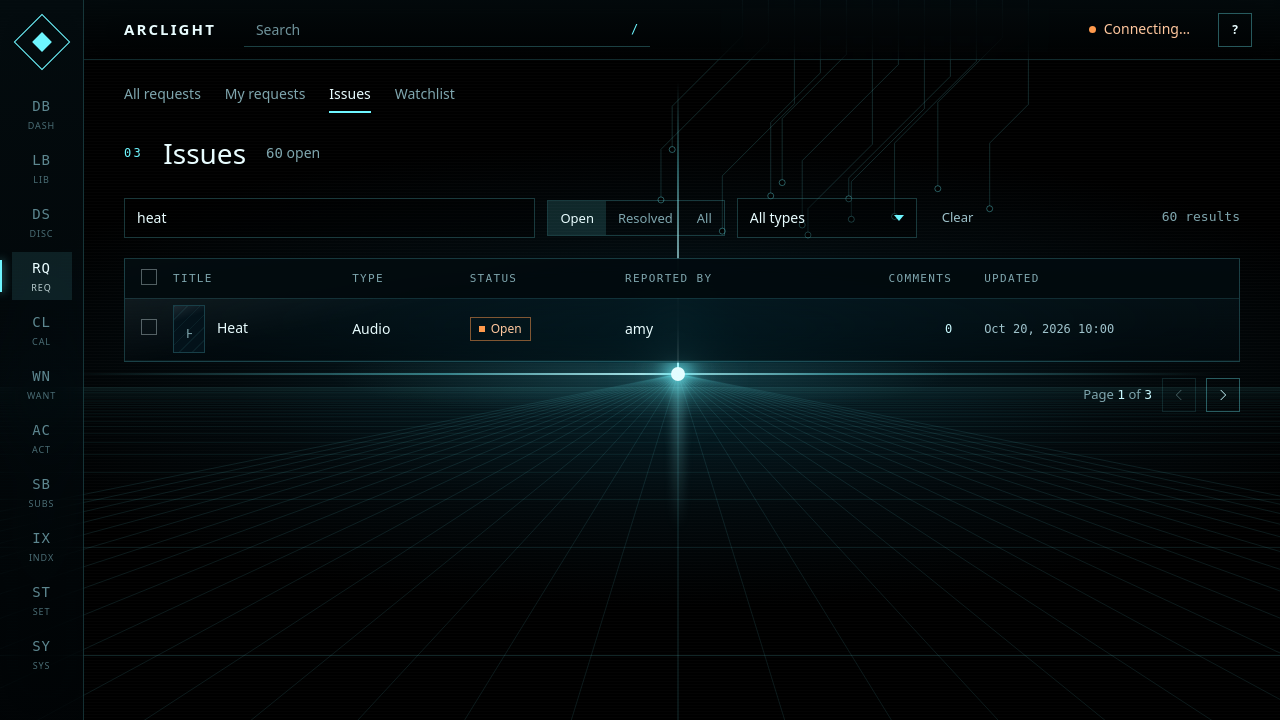
Test case: issues page search › sends q, shows the server count, resets the page and clears from the empty state
Expected: the link "Heat" is shown, [217, 318, 248, 338]
Expected: the text "60 results" is shown, [1162, 208, 1240, 227]
Click the button named "Next page". click: (1223, 395)
box: [1206, 378, 1240, 412]
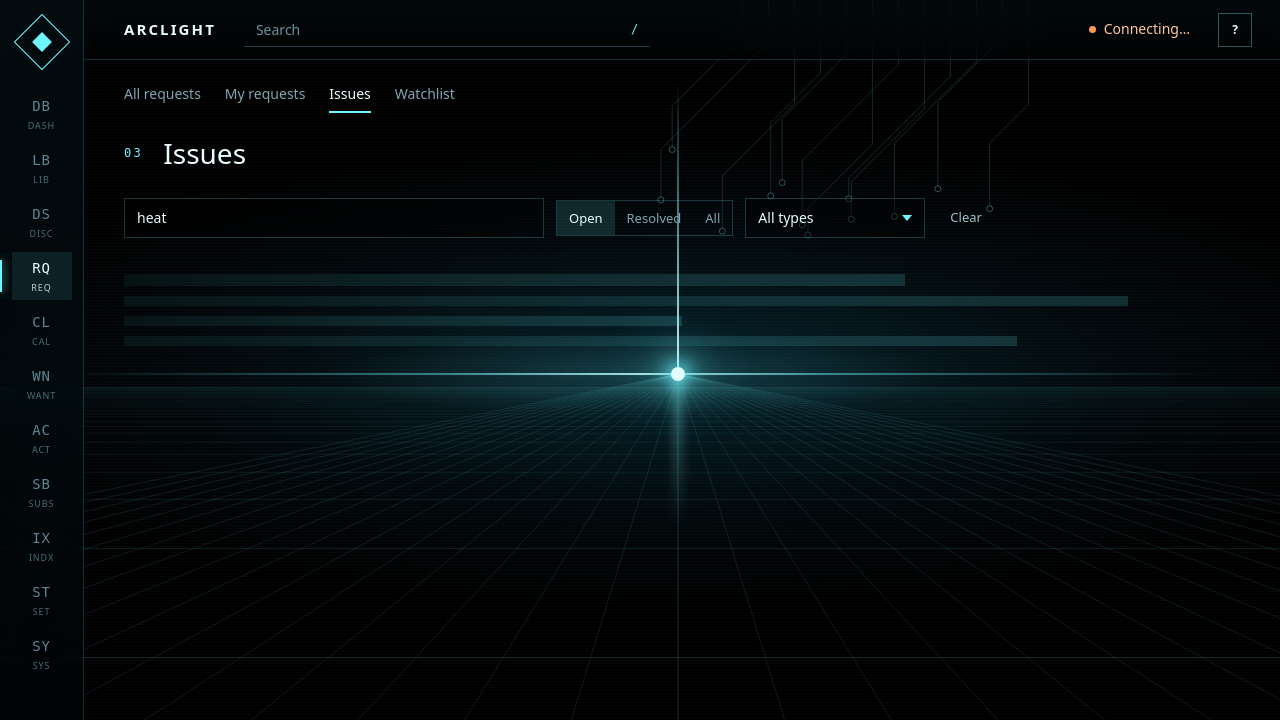
Replace the text in the search field named "Search this list" with "nothing". click: (334, 218)
box: [124, 198, 544, 238]
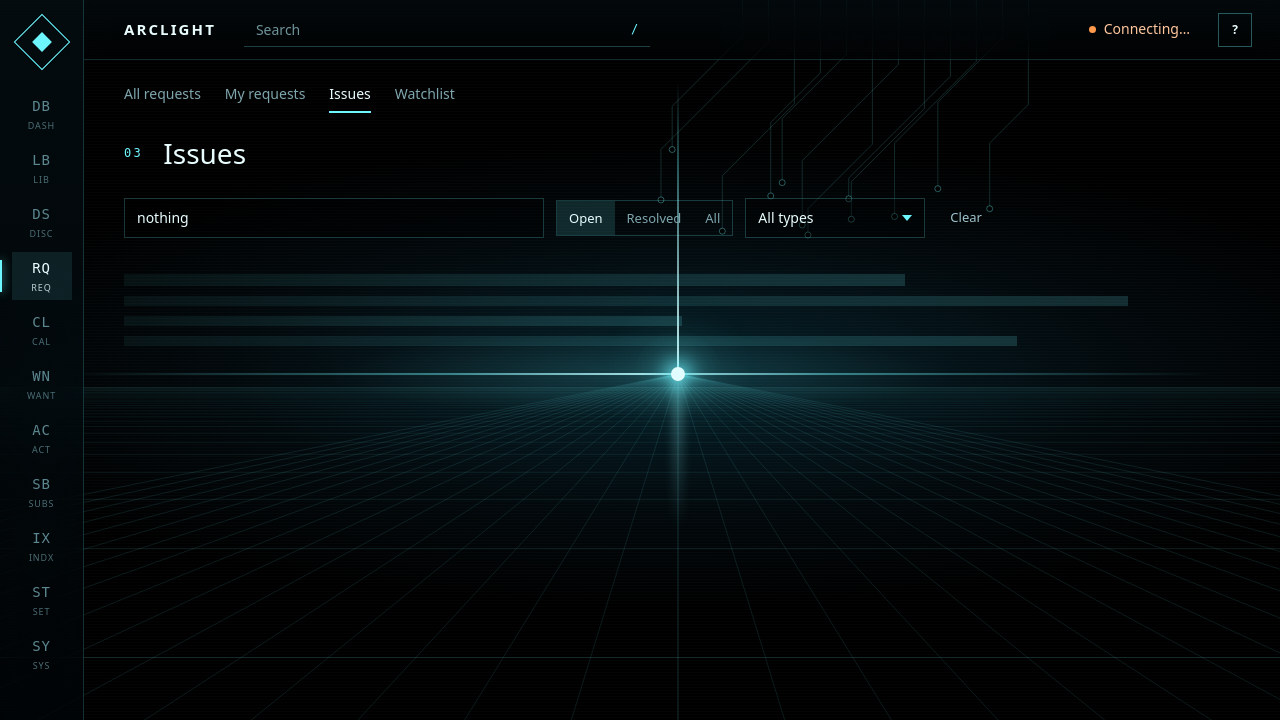
Press Enter in the search field named "Search this list", box [124, 198, 544, 238]
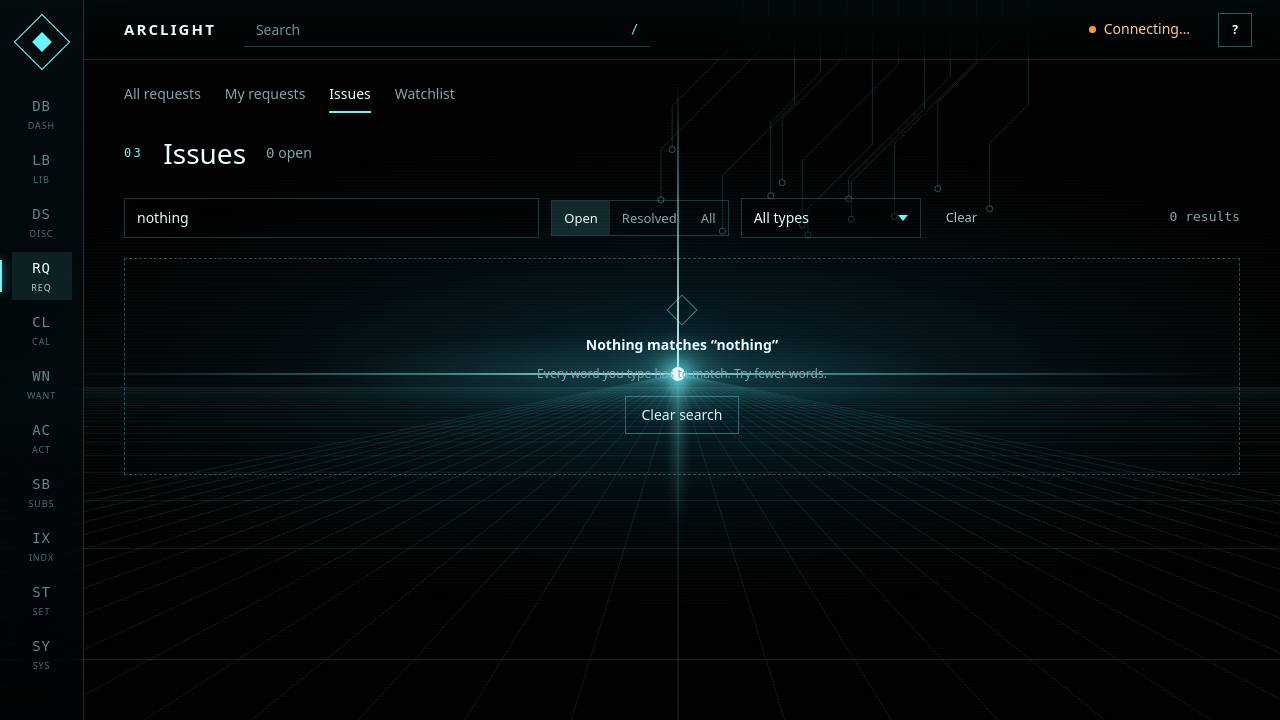
Click the button "Clear search". click: (682, 415)
box: [624, 396, 740, 434]
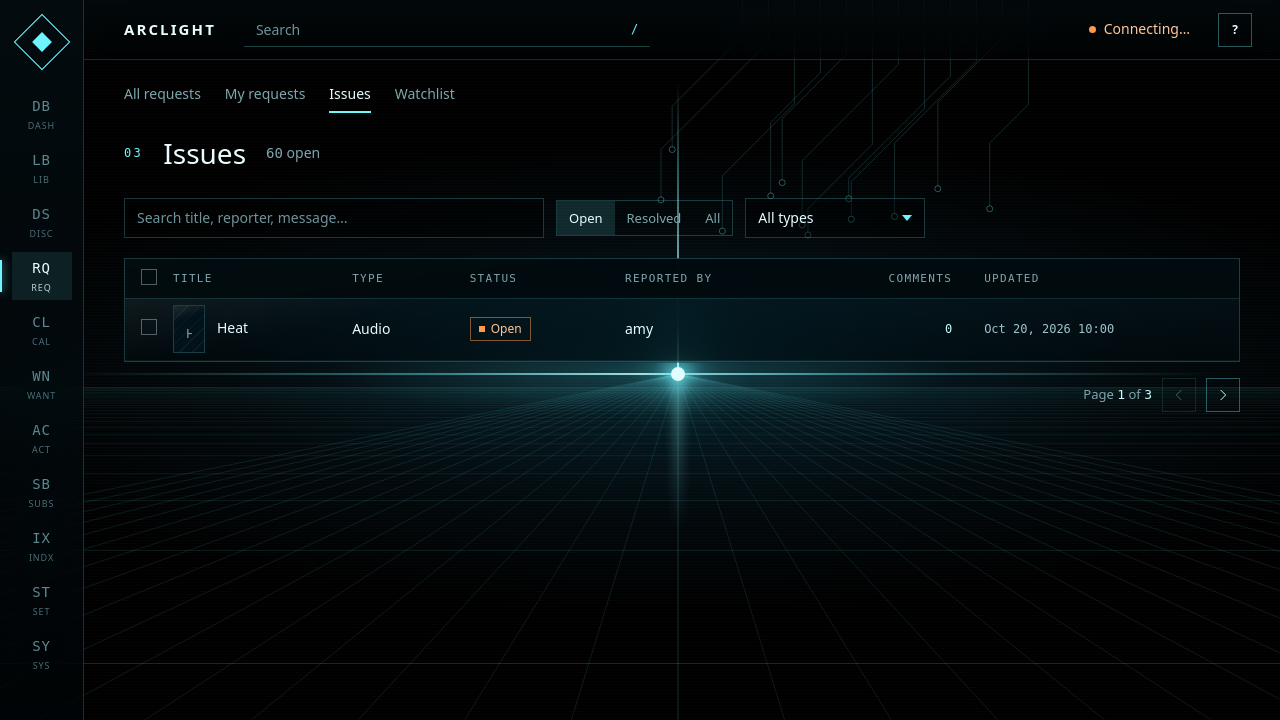
Now the link "Heat" is shown, box [217, 318, 248, 338]
